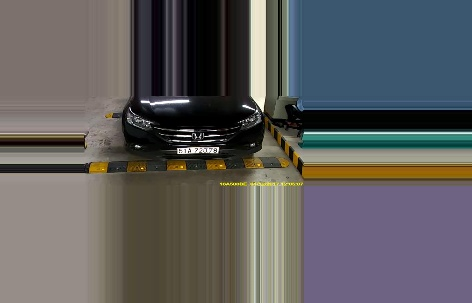plate: (176, 145, 221, 157)
